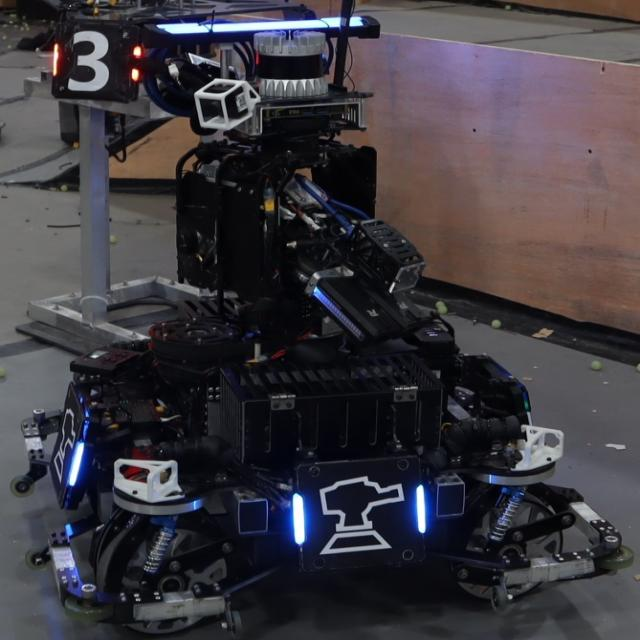Bs: (287, 469, 427, 557), (49, 397, 94, 497)
R3: (49, 30, 140, 90)
